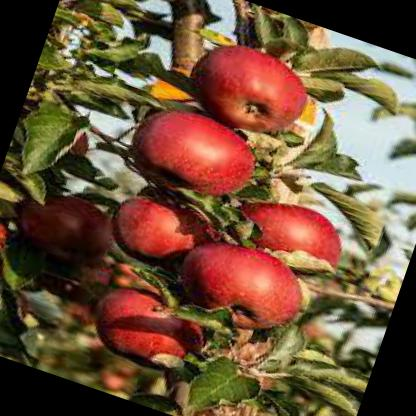apple: (168, 227, 319, 346), (115, 94, 266, 209), (183, 32, 321, 146), (218, 182, 358, 286), (77, 278, 210, 384), (103, 179, 221, 274)
